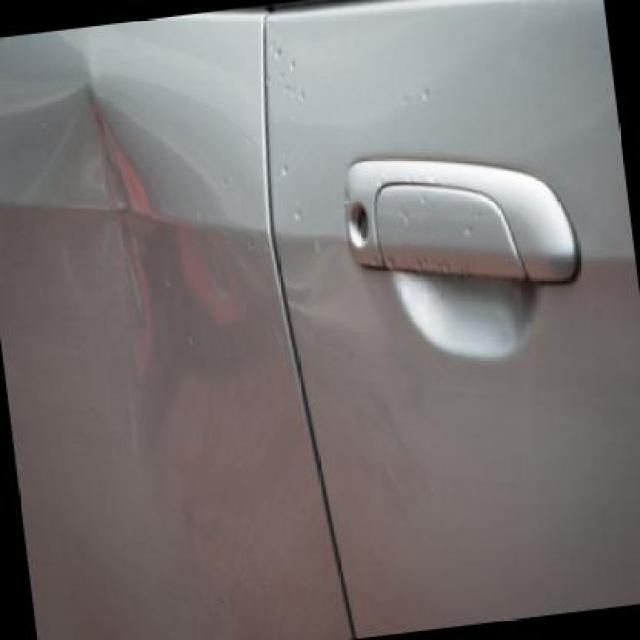dent: (0, 81, 269, 458)
